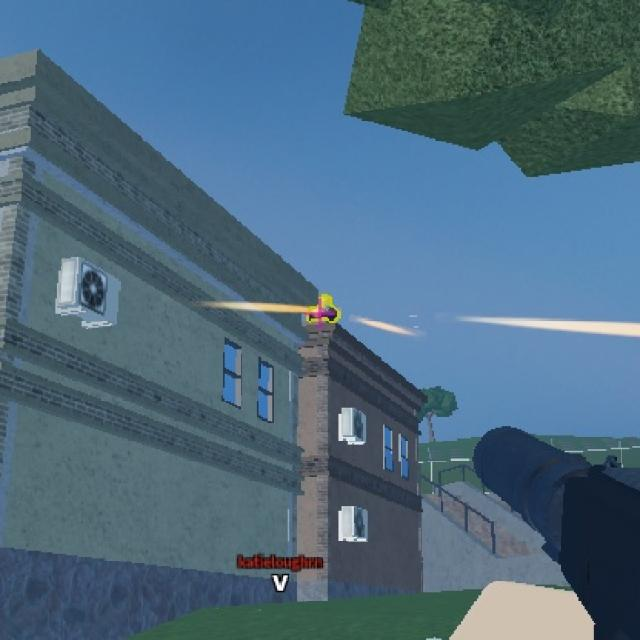player: (306, 292, 339, 328)
